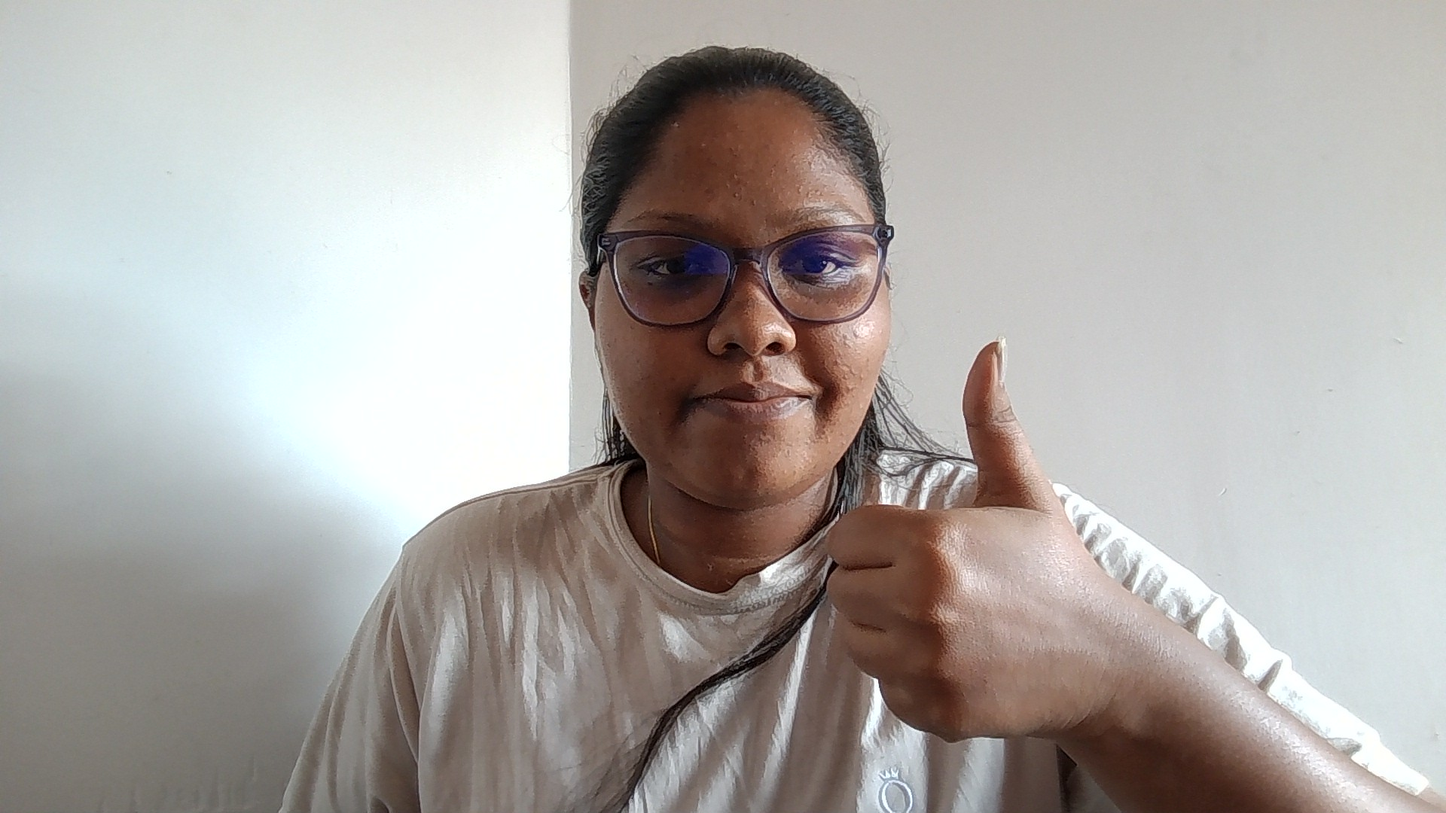Thumbs Up: (802, 333, 1258, 813)
